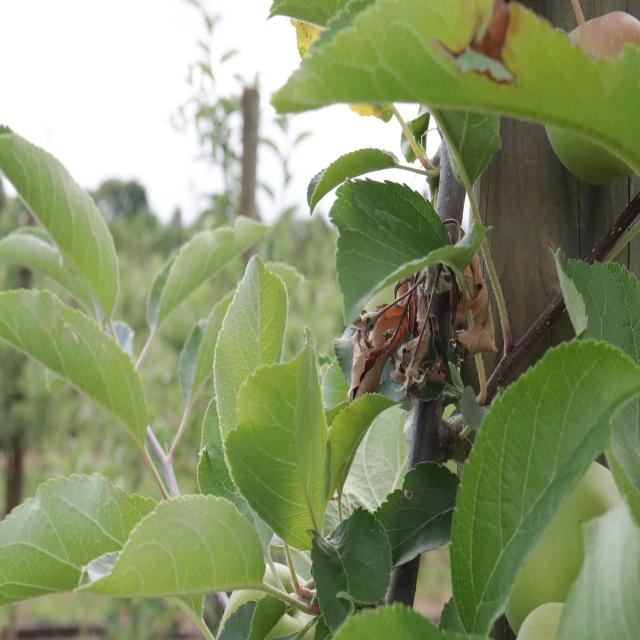-FireBlight-: (343, 247, 507, 402)
